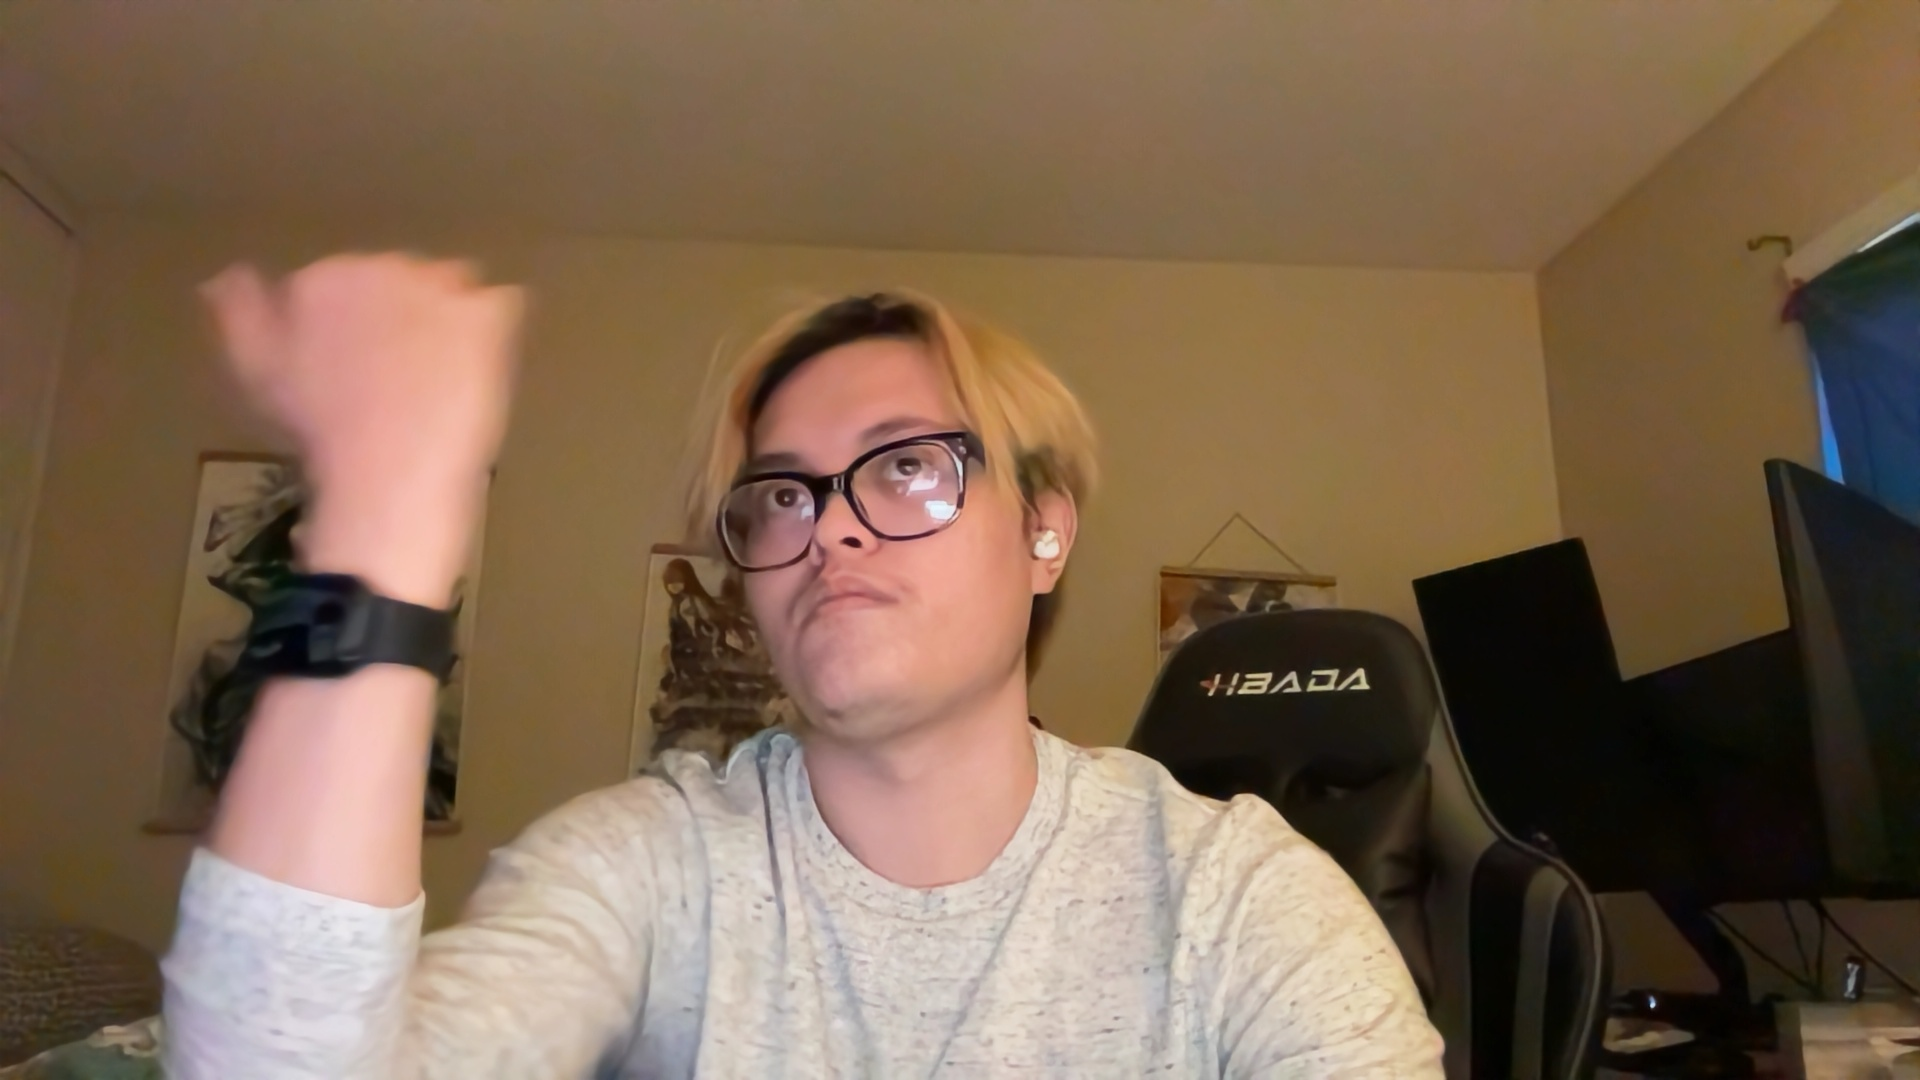watch: (241, 560, 464, 698)
